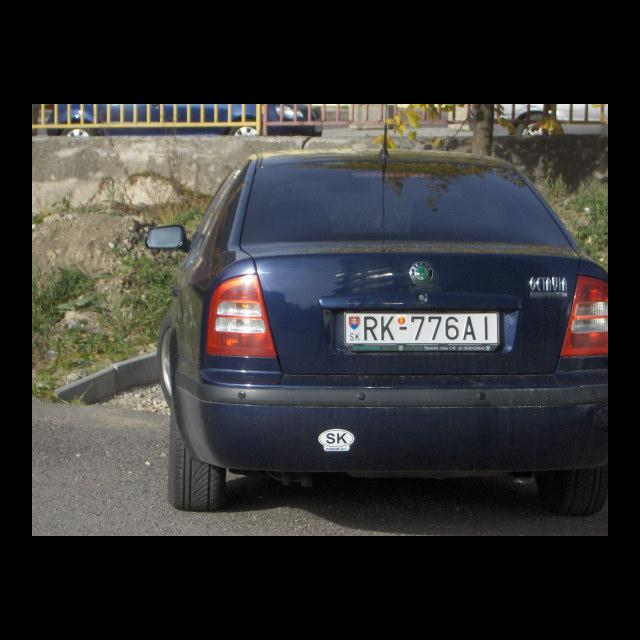Plate: (341, 308, 502, 349)
